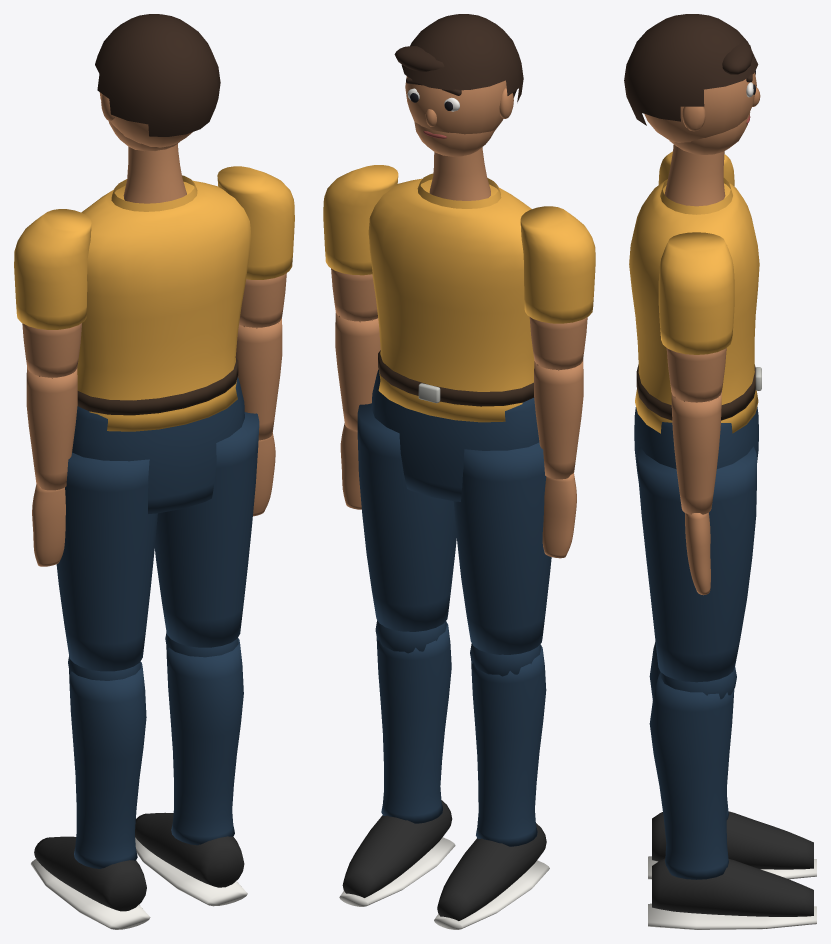
File: player.glb
The picture shows the model from 3 angles, left to right: view 1: azimuth 30°, elevation 25°; view 2: azimuth 150°, elevation 25°; view 3: azimuth 270°, elevation 25°; orthographic projection. The views are drawn at different scales.
Parts seen in each view (by area): view 1: Body, ShinL, ShinR, LegL, Head, LegR, ArmL, ArmR, ForeArmL, ForeArmR; view 2: Body, LegL, ShinL, ShinR, LegR, Head, ArmL, ArmR, ForeArmL, ForeArmR; view 3: ShinR, LegR, Body, Head, ArmR, ForeArmR, ShinL, ArmL.
Boxes of the visible parts, bbox=[...] form: Body: bbox=[72, 175, 251, 513]; ShinL: bbox=[31, 661, 150, 929]; ShinR: bbox=[135, 638, 247, 906]; LegL: bbox=[56, 452, 157, 680]; Head: bbox=[95, 14, 220, 203]; LegR: bbox=[154, 412, 259, 657]; ArmL: bbox=[14, 209, 91, 378]; ArmR: bbox=[217, 166, 294, 328]; ForeArmL: bbox=[26, 368, 77, 566]; ForeArmR: bbox=[235, 318, 282, 516]; Body: bbox=[368, 173, 539, 501]; LegL: bbox=[453, 442, 551, 676]; ShinL: bbox=[434, 645, 549, 929]; ShinR: bbox=[339, 622, 455, 906]; LegR: bbox=[357, 403, 456, 653]; Head: bbox=[394, 14, 523, 200]; ArmL: bbox=[520, 206, 595, 370]; ArmR: bbox=[323, 165, 398, 322]; ForeArmL: bbox=[534, 360, 583, 558]; ForeArmR: bbox=[335, 313, 380, 509]; ShinR: bbox=[648, 672, 816, 929]; LegR: bbox=[636, 446, 756, 699]; Body: bbox=[629, 178, 761, 480]; Head: bbox=[624, 14, 760, 206]; ArmR: bbox=[658, 232, 734, 402]; ForeArmR: bbox=[671, 392, 721, 595]; ShinL: bbox=[648, 641, 816, 879]; ArmL: bbox=[658, 151, 734, 186].
Bounding box in the file's own units: 0.5456 × 1.69 × 0.3368.
